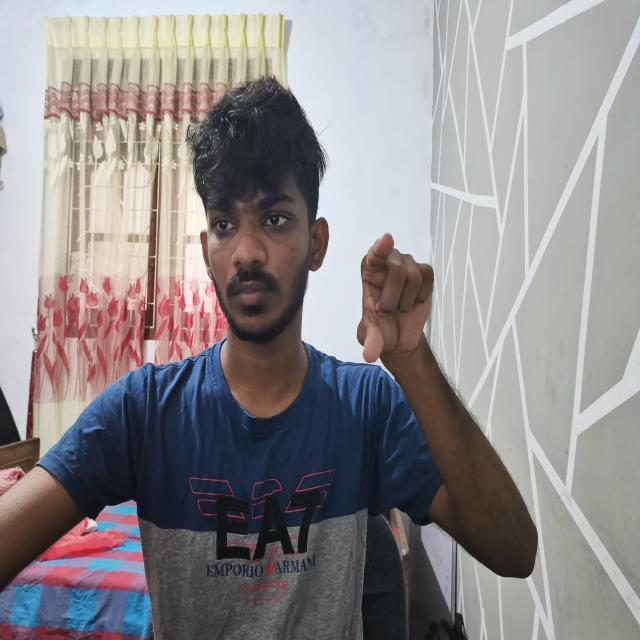No: (352, 230, 440, 382)
